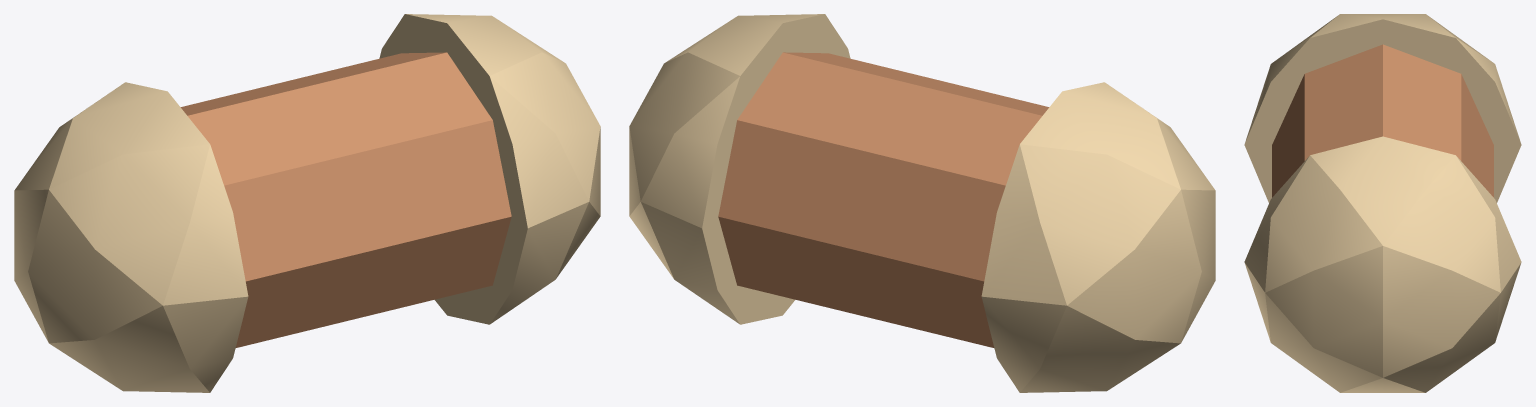
The picture shows the model from 3 angles, left to right: view 1: azimuth 30°, elevation 25°; view 2: azimuth 150°, elevation 25°; view 3: azimuth 270°, elevation 25°; orthographic projection. The views are drawn at different scales.
Visible parts, largest first — view 1: mergedBlocks; view 2: mergedBlocks; view 3: mergedBlocks.
Part boxes in pixels (bbox=[...]): mergedBlocks: bbox=[14, 14, 600, 392]; mergedBlocks: bbox=[629, 14, 1215, 392]; mergedBlocks: bbox=[1244, 14, 1521, 392].
Size of the model in its own units: 20 by 10 by 10.
